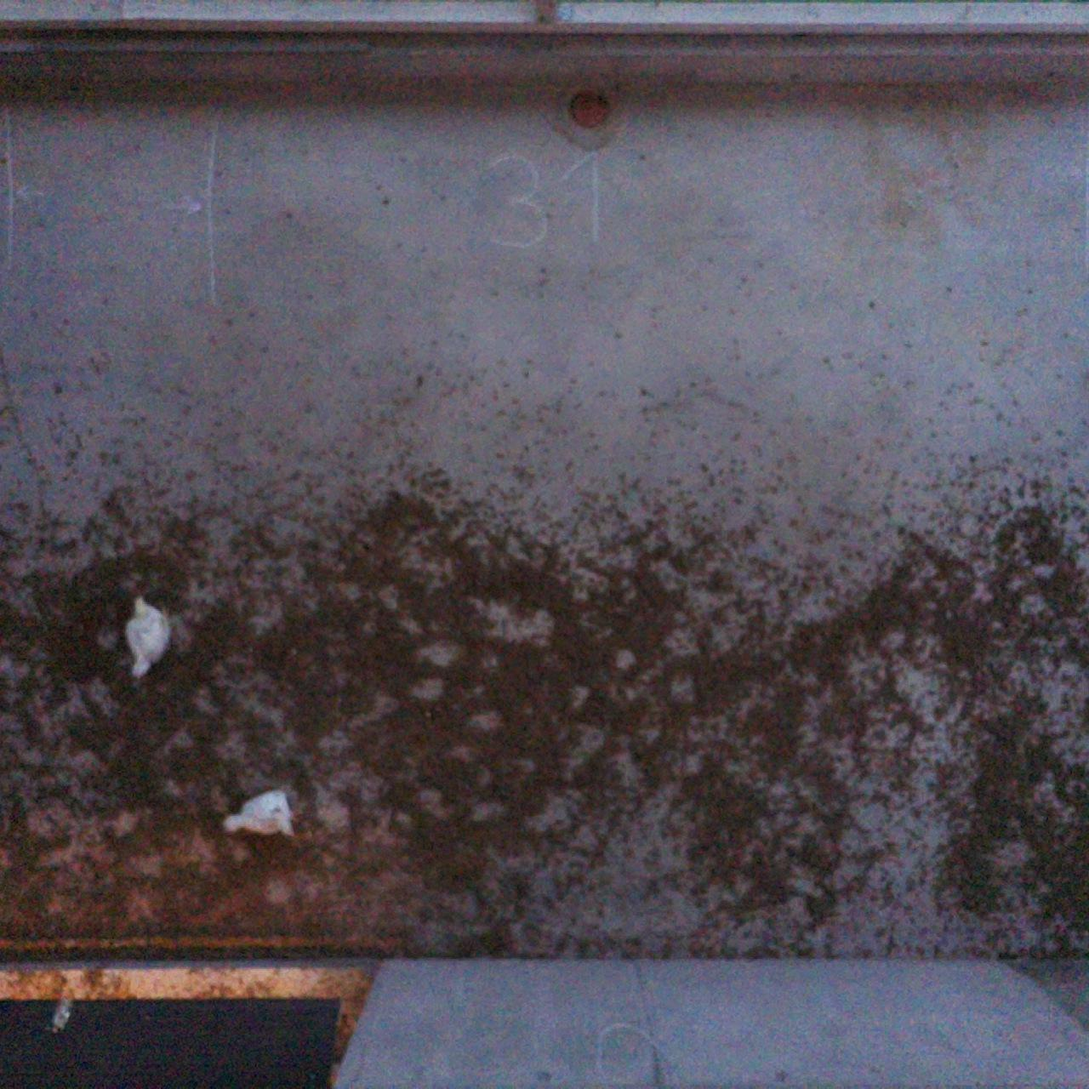chicken: (117, 585, 177, 686), (215, 783, 304, 844)
